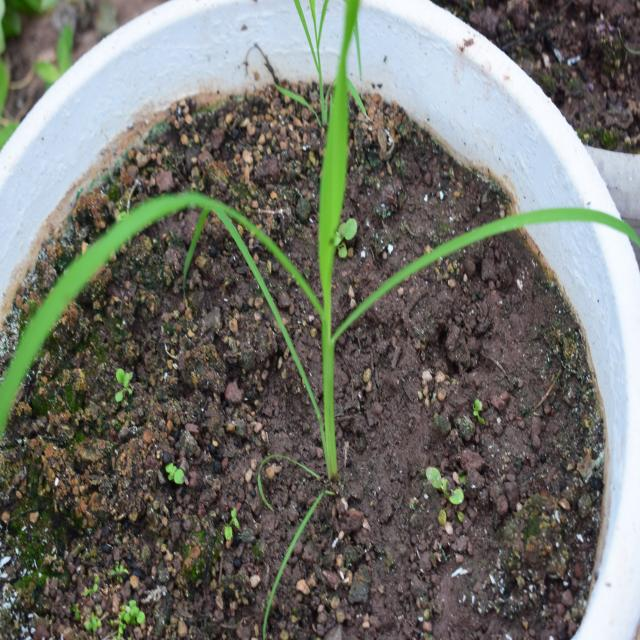barnyard_grass: (0, 16, 621, 440)
